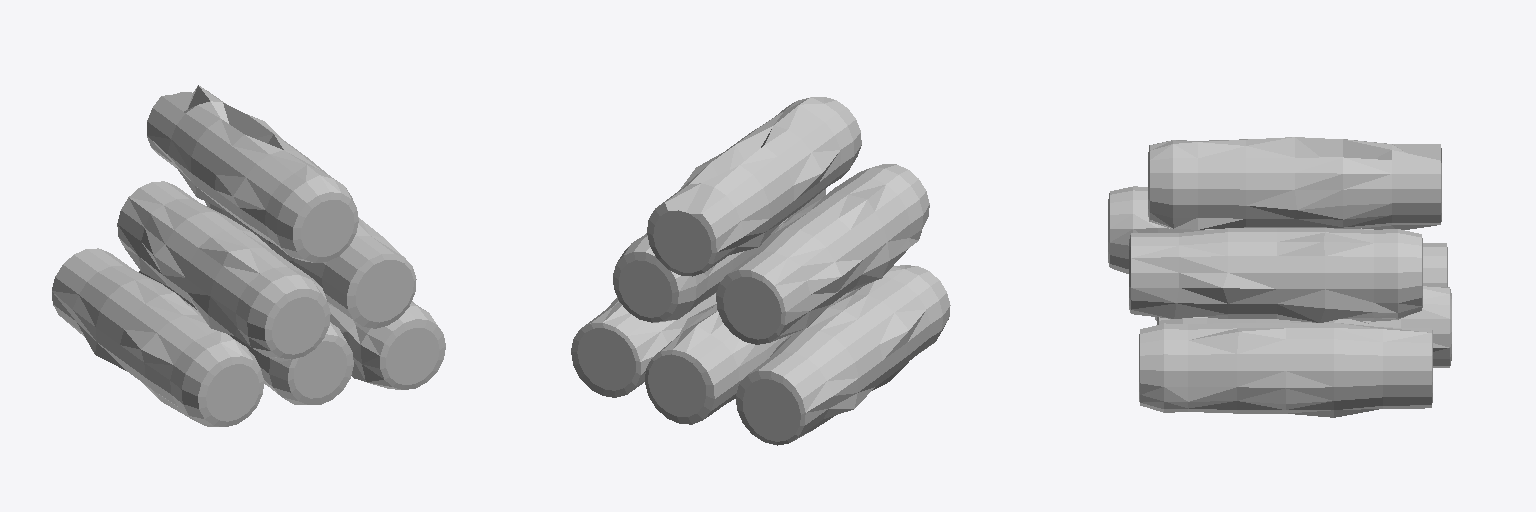
The model's file is Wood.obj.
3 views of the same model, side by side, from view 1: azimuth 30°, elevation 25°; view 2: azimuth 150°, elevation 25°; view 3: azimuth 270°, elevation 25° (orthographic).
Parts seen in each view (by area): view 1: Wood:Mesh; view 2: Wood:Mesh; view 3: Wood:Mesh.
Boxes of the visible parts, x1=… form: Wood:Mesh: x1=52, y1=85, x2=445, y2=426; Wood:Mesh: x1=571, y1=97, x2=950, y2=445; Wood:Mesh: x1=1108, y1=137, x2=1451, y2=417.
Bounding box in the file's own units: 0.6586 × 0.583 × 0.7638.